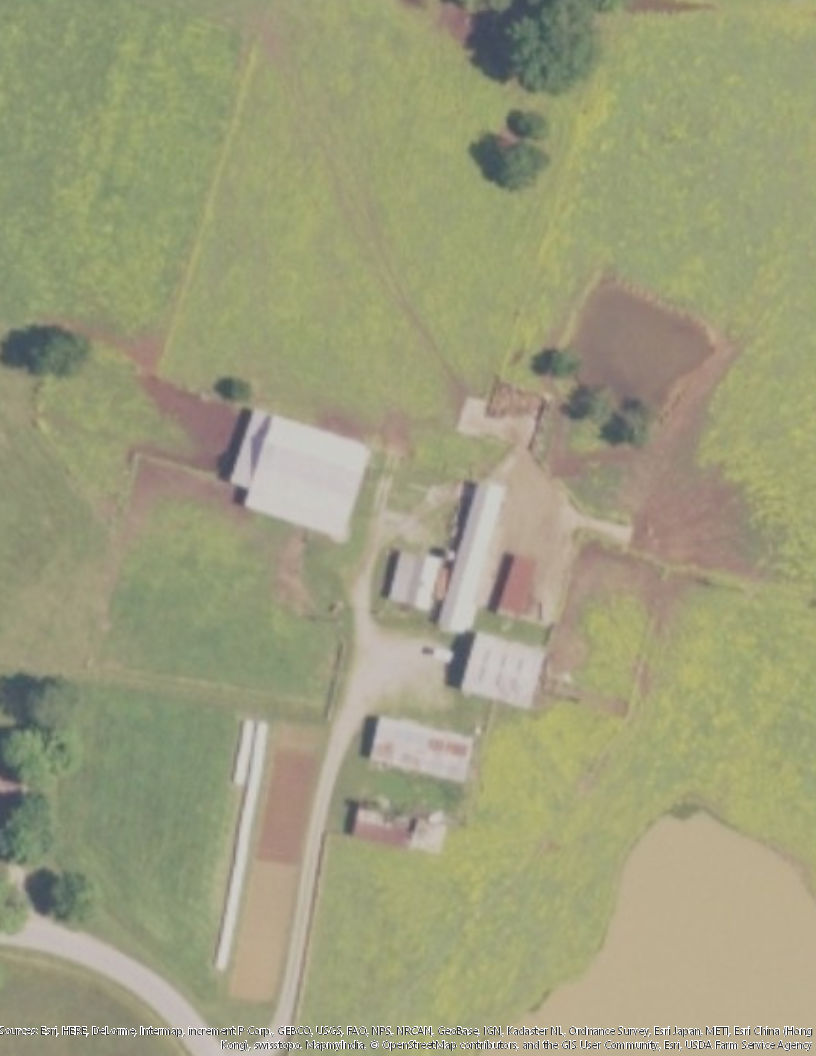cafo: (430, 476, 524, 638), (359, 711, 494, 786)
